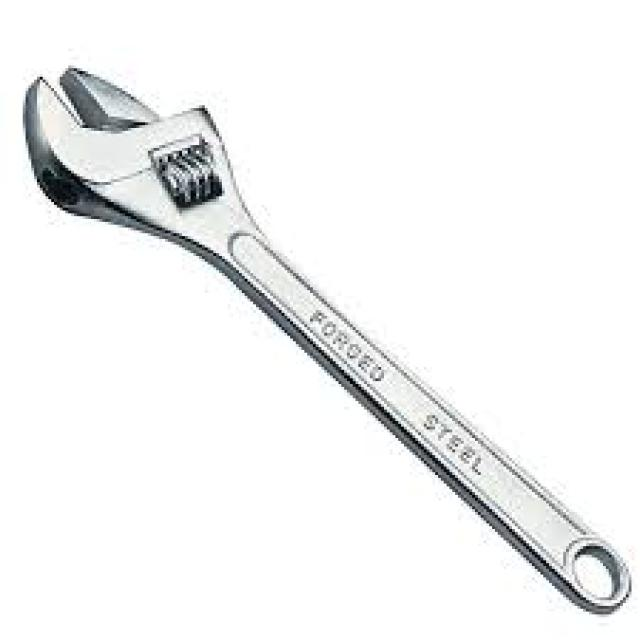Dry: (21, 56, 635, 610)
